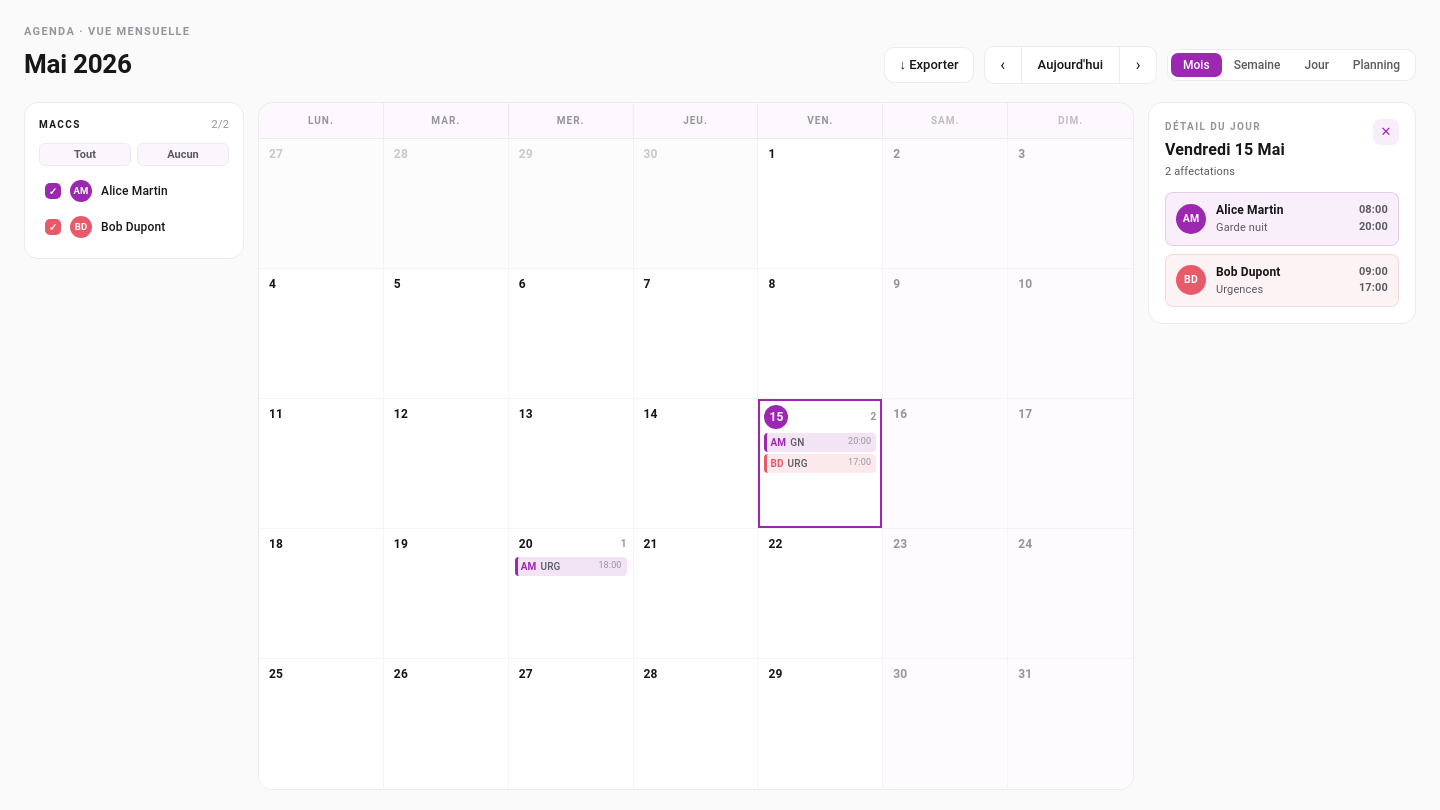
MonthCalendar — sidebar MACCs › cliquer un MACC le désactive (toggle)
Click the text "Alice Martin" below "MACCs" at (134, 191), box [101,184,168,198]
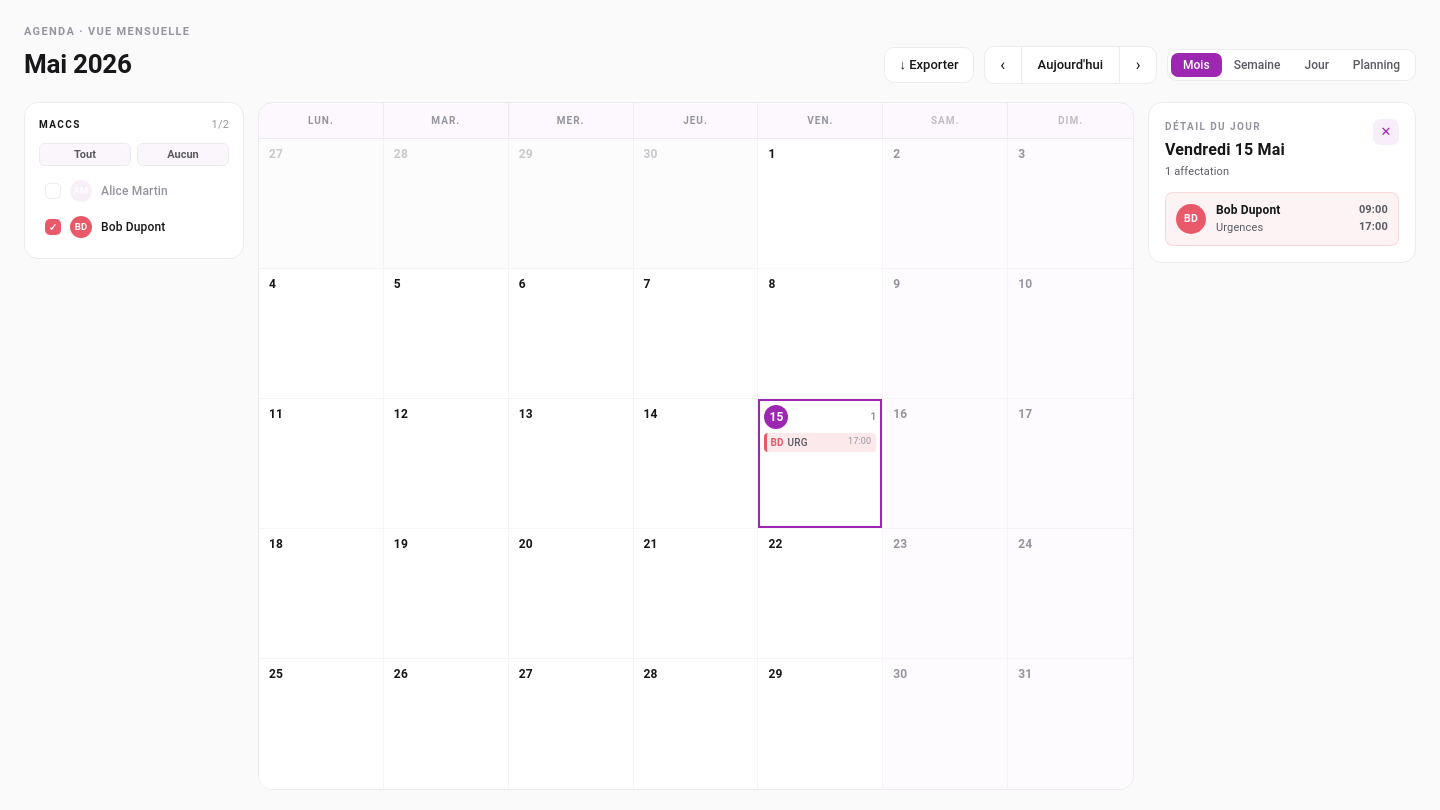
Expected: the text "1/2" is shown, [212,116,229,133]
